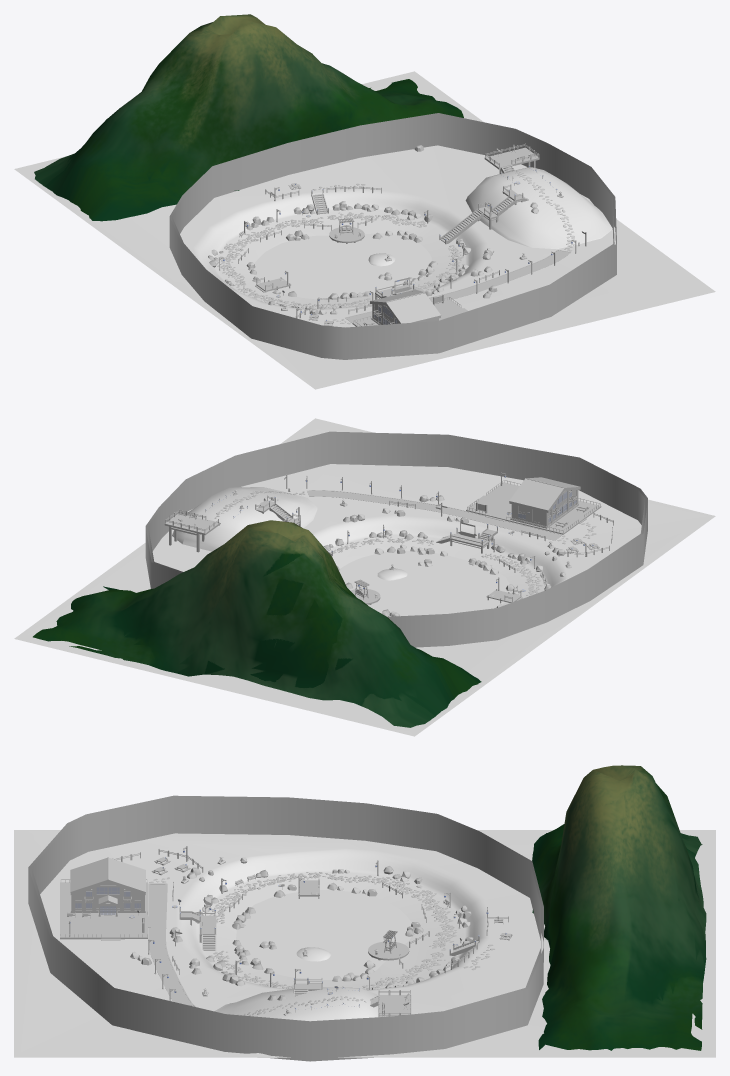
File: World01_daisen_ver0327.fbx
The picture shows the model from 3 angles, top to bottom: view 1: azimuth 30°, elevation 25°; view 2: azimuth 150°, elevation 25°; view 3: azimuth 270°, elevation 25°; orthographic projection. The views are drawn at different scales.
Visible parts, largest first — view 1: Ground, mountain, Belt_mountain, Prop_Mod, Water, House; view 2: mountain, Ground, Belt_mountain, Prop_Mod, Water, House; view 3: Ground, mountain, Belt_mountain, Prop_Mod, Water, House.
Boxes of the visible parts, left/top/right/bottom form: Ground: left=14, top=71, right=715, bottom=389; mountain: left=34, top=14, right=463, bottom=221; Belt_mountain: left=169, top=113, right=616, bottom=359; Prop_Mod: left=208, top=143, right=586, bottom=326; Water: left=253, top=233, right=431, bottom=299; House: left=370, top=291, right=441, bottom=324; mountain: left=33, top=520, right=481, bottom=727; Ground: left=14, top=418, right=715, bottom=736; Belt_mountain: left=145, top=431, right=647, bottom=647; Prop_Mod: left=164, top=472, right=613, bottom=616; Water: left=339, top=550, right=510, bottom=616; House: left=509, top=477, right=580, bottom=528; Ground: left=14, top=830, right=715, bottom=1057; mountain: left=532, top=765, right=706, bottom=1050; Belt_mountain: left=28, top=795, right=543, bottom=1061; Prop_Mod: left=60, top=846, right=512, bottom=1017; Water: left=236, top=890, right=411, bottom=979; House: left=70, top=857, right=145, bottom=916.
Bounding box in the file's own units: 10061 × 3775 × 13024.
